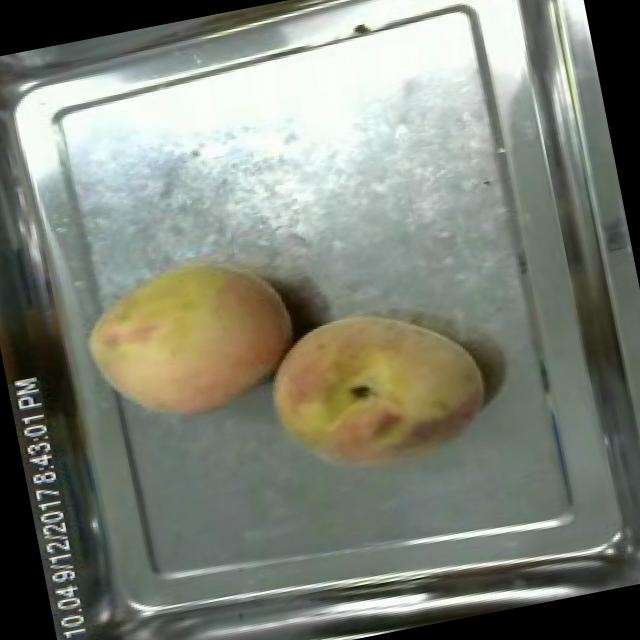Fruit: (248, 285, 500, 499), (64, 234, 314, 445)
